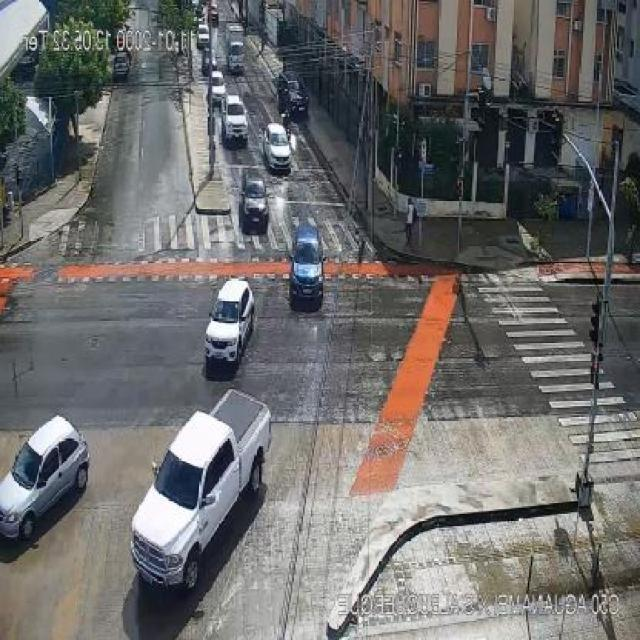Car: (91, 382, 296, 626), (0, 414, 103, 548), (195, 267, 262, 364), (281, 222, 336, 306), (211, 90, 259, 148), (233, 170, 279, 228), (261, 114, 296, 168), (203, 57, 232, 104)
